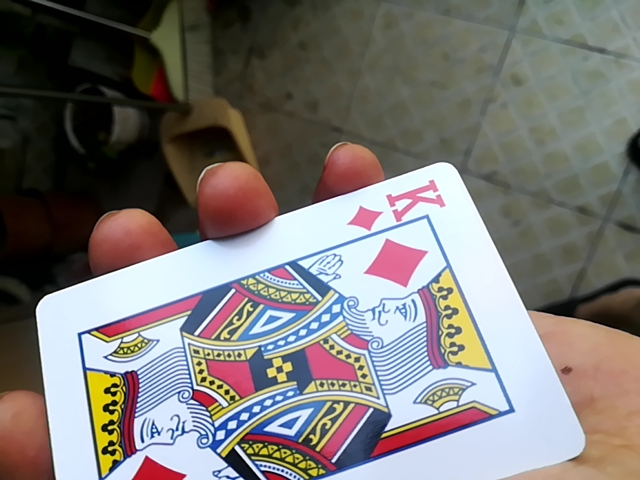fk k: (33, 151, 592, 478)
